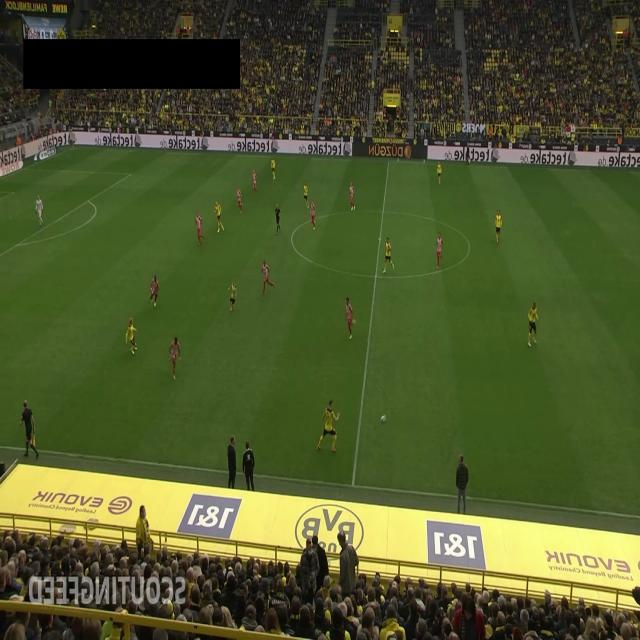ball: (380, 414, 387, 424)
goalkeeper: (34, 194, 44, 226)
player: (316, 400, 340, 452), (527, 302, 539, 346), (261, 260, 275, 296), (382, 236, 395, 274), (126, 317, 138, 354), (170, 336, 180, 380), (345, 297, 353, 339), (214, 200, 224, 233), (150, 274, 159, 308), (196, 211, 204, 245), (228, 282, 237, 312), (436, 231, 443, 269), (495, 209, 502, 244), (236, 186, 243, 214), (349, 181, 355, 211), (310, 200, 316, 230), (303, 181, 309, 209), (252, 170, 258, 194), (436, 161, 442, 184), (271, 157, 276, 180)
referee: (19, 399, 39, 459), (275, 204, 281, 235), (465, 140, 471, 166)
